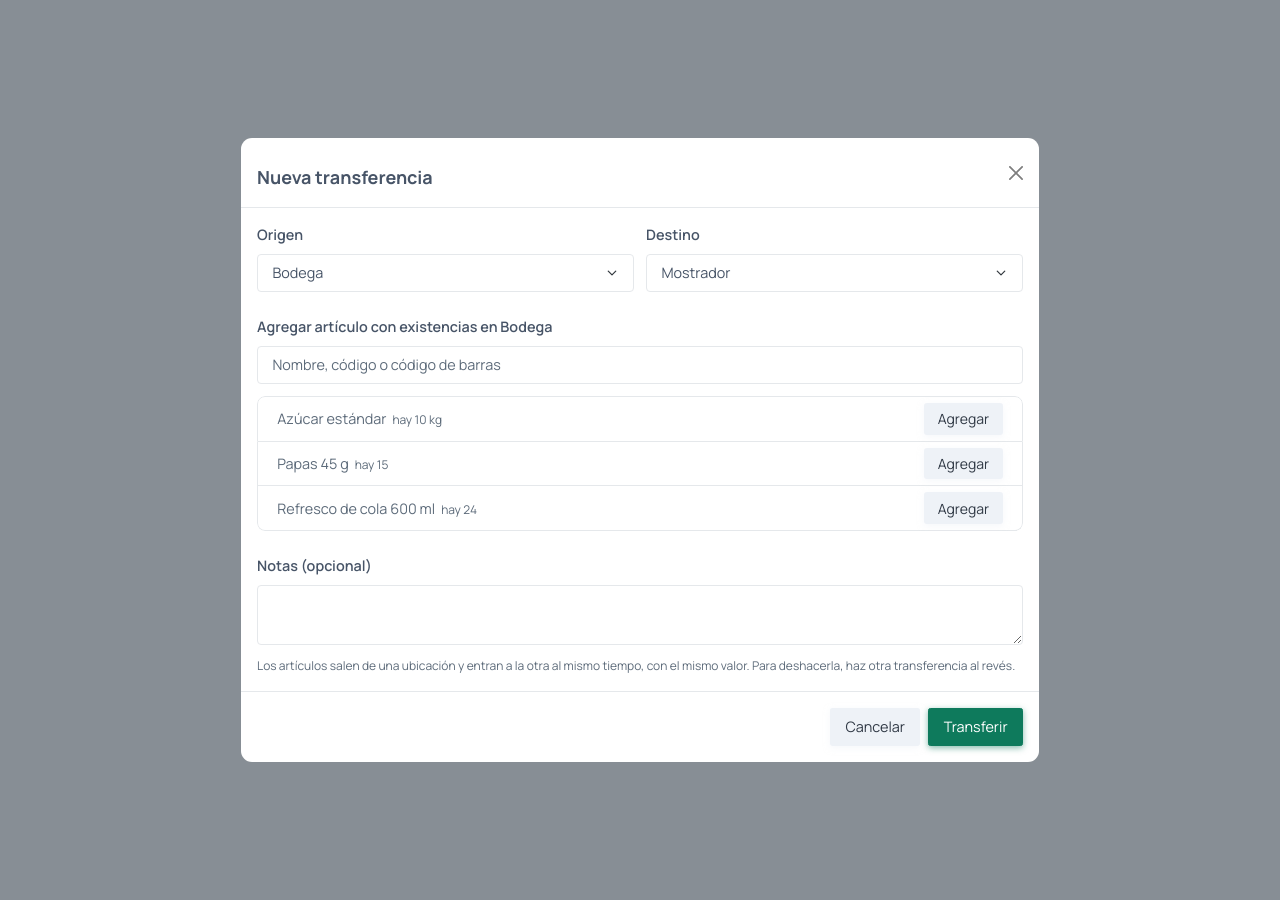
NewTransferModal › reads what the origin has only while open, and again after the API refused the transfer
This screenshot has width=1280, height=900.
Click the button with aria-label "Agregar Papas 45 g" at (963, 463), box [924, 448, 1003, 479]
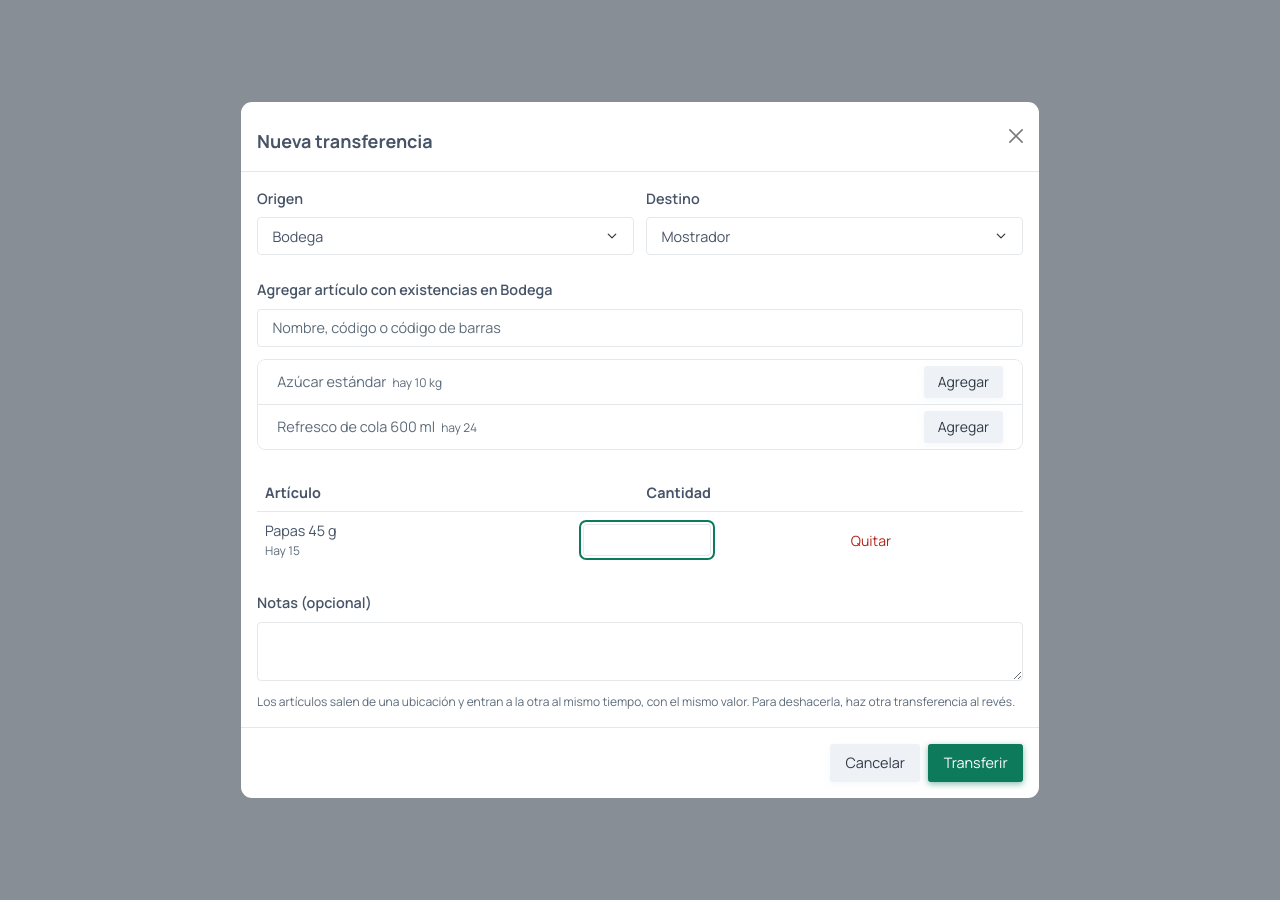
As much as there is goes.
Type "15" into the field named "Cantidad de Papas 45 g" at (647, 540), box [583, 524, 711, 556]
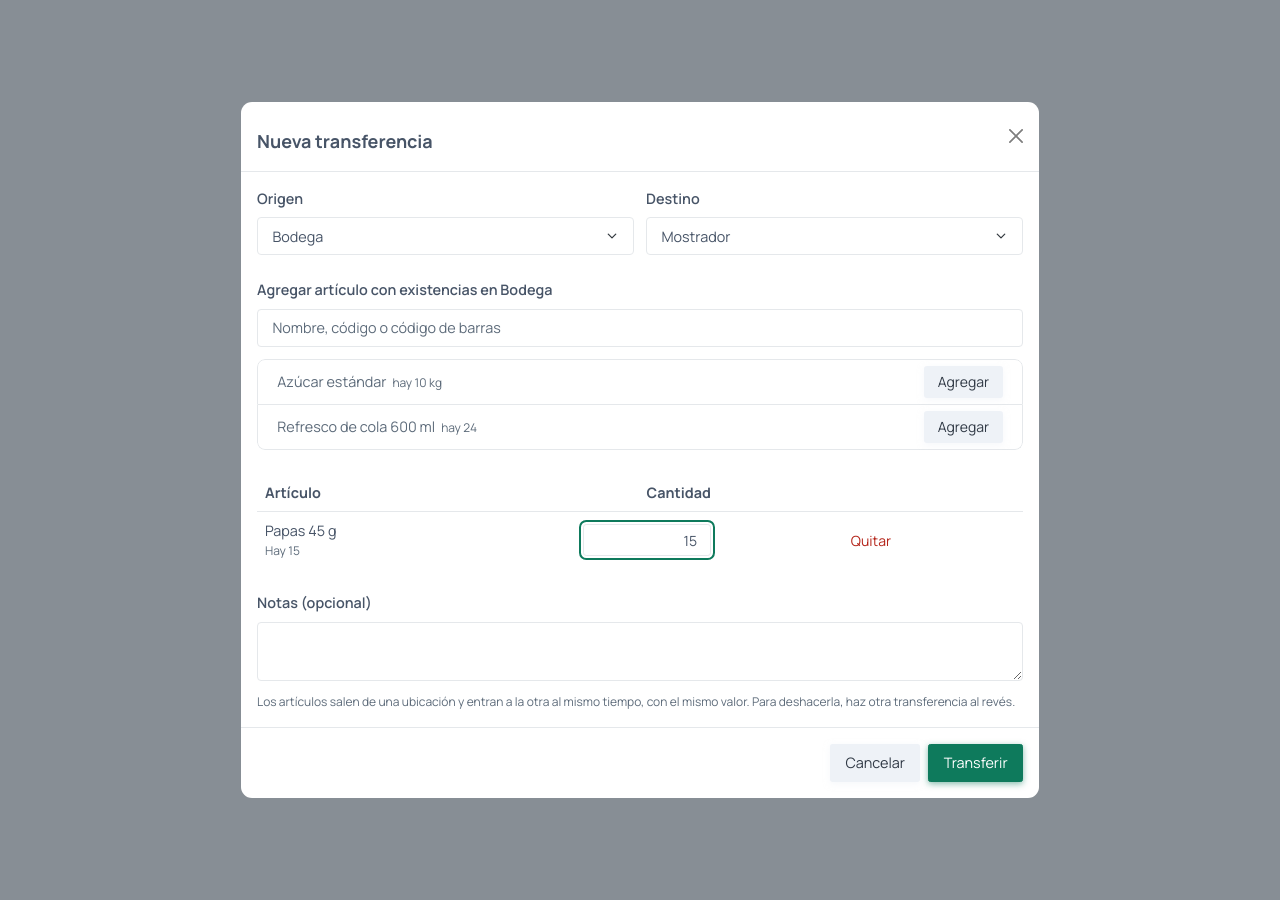
Click the button "Transferir" at (976, 763), box [928, 744, 1023, 782]
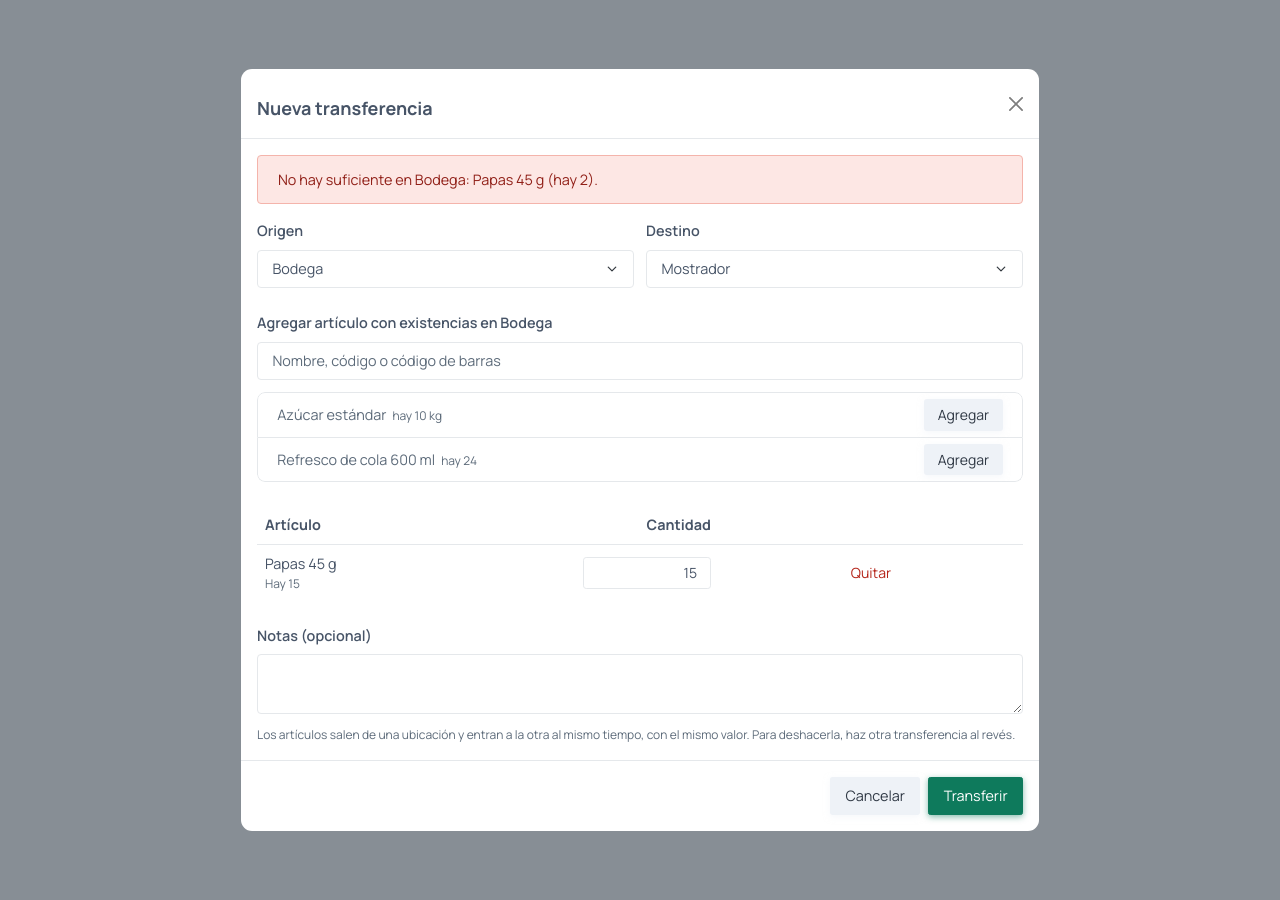
Expected: the message reads "No hay suficiente en Bodega: Papas 45 g (hay 2).", [278, 170, 598, 189]
